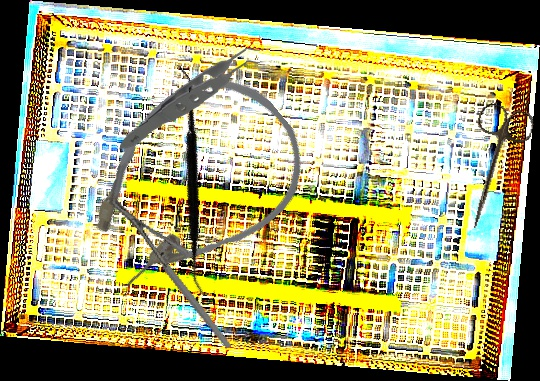Cannula: (50, 48, 330, 319)
Iris Scissors: (450, 101, 537, 236)
Needle Holder: (110, 180, 232, 369)
Spatula Surgical: (85, 63, 297, 298)
Tissue Forceps: (112, 46, 282, 150)
